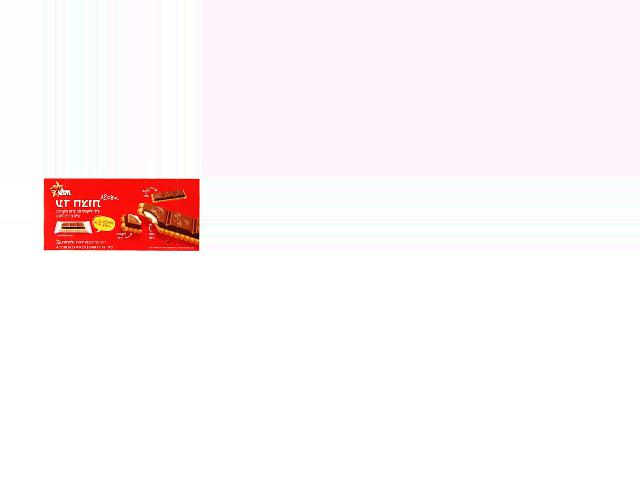chocolate: (40, 177, 200, 251)
